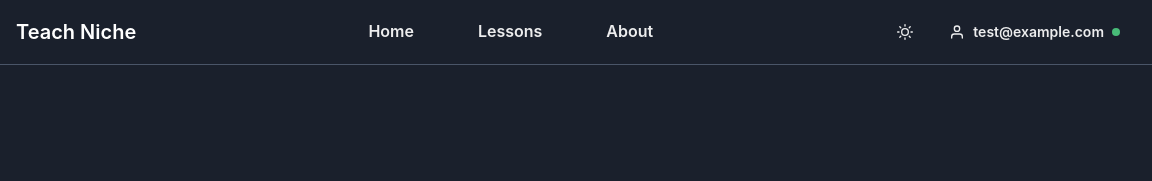
Header Component › shows profile menu on desktop
// Open profile menu
Click the button with aria-label "User menu".
click(1035, 32)  # box [933,12,1136,52]
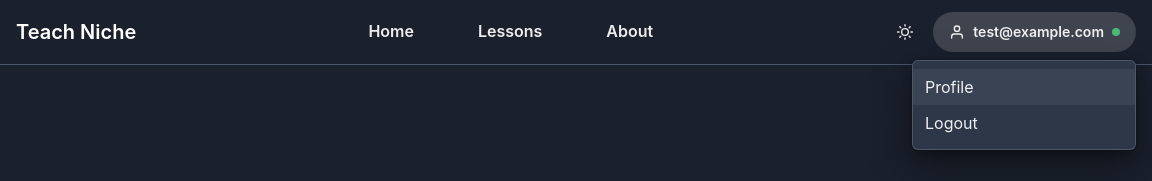
Expected: the menu item "Profile" is shown, [913,69,1135,105]
Expected: the menu item "Logout" is shown, [913,105,1135,141]
